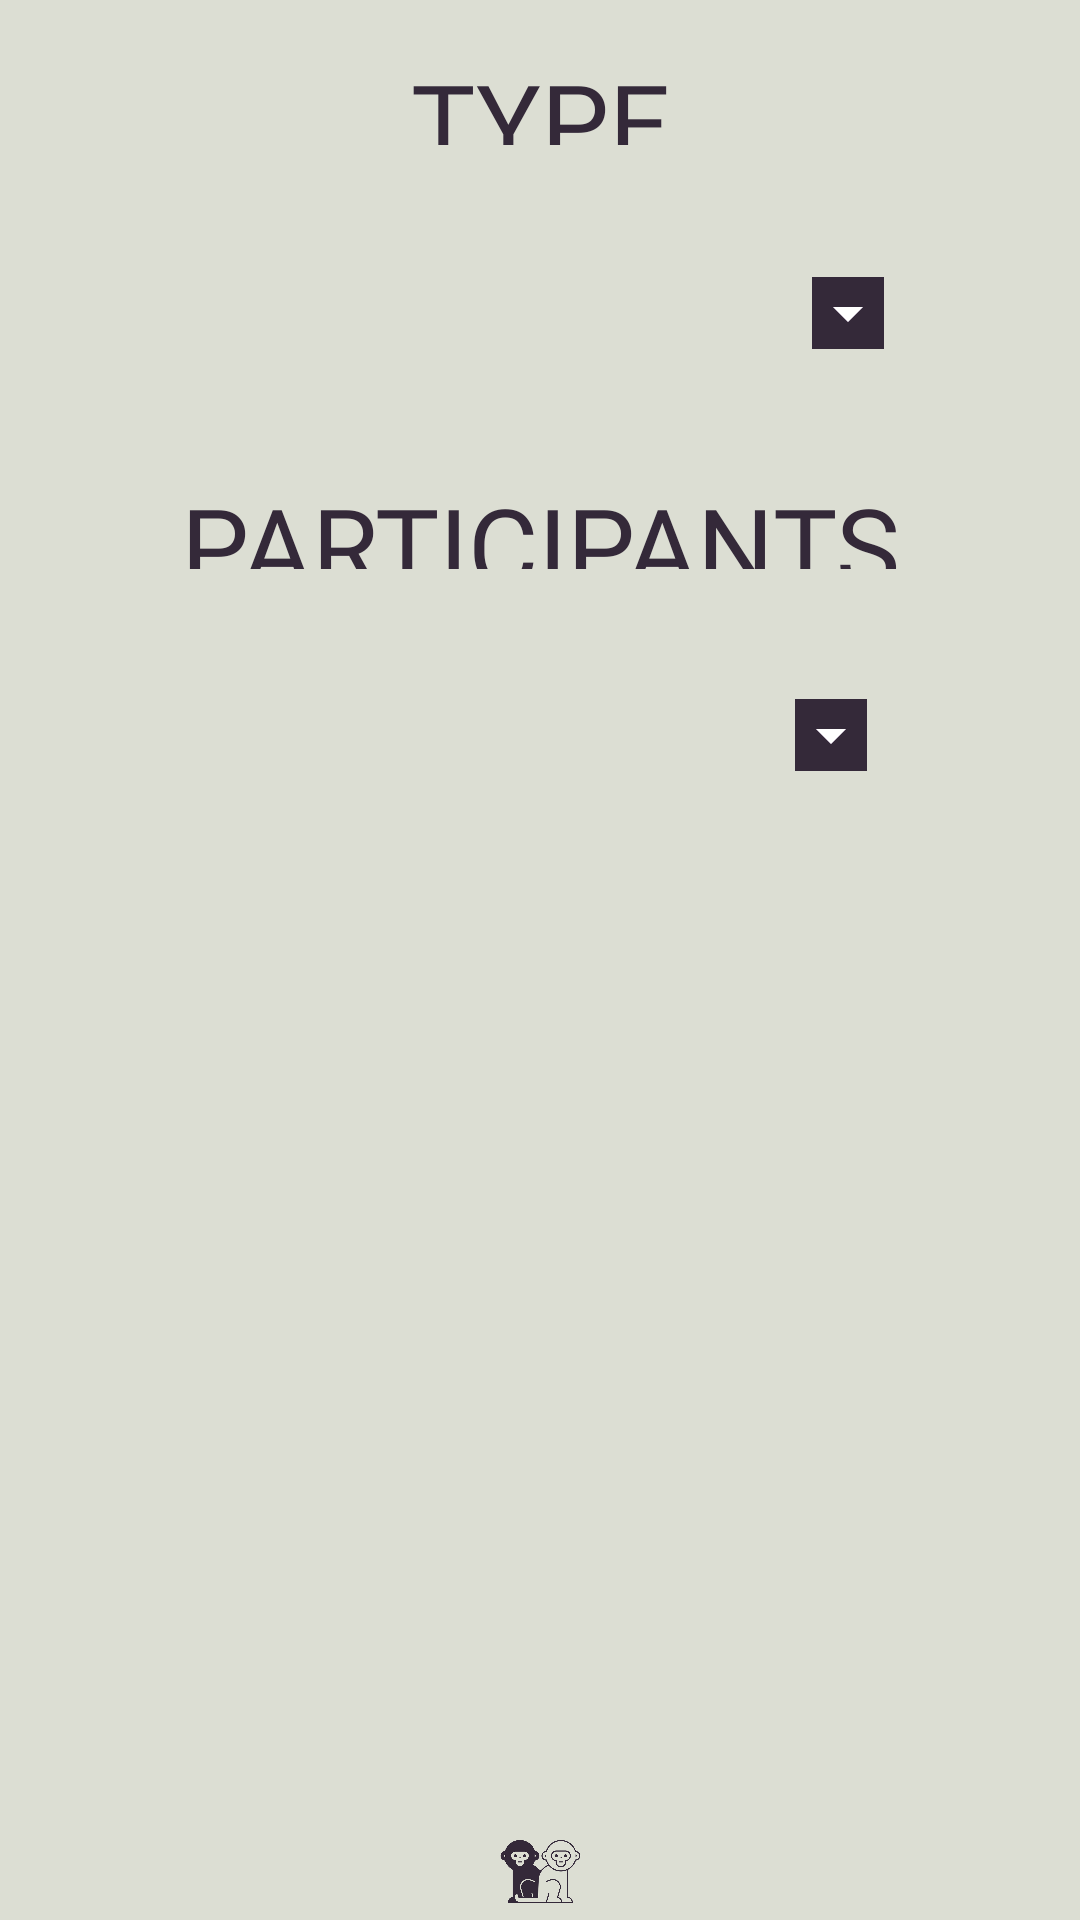

Where icons sit on this 1080*1920 app screen, as (x1, y1, x2, y2):
monkeys: (500, 1840, 580, 1903)
